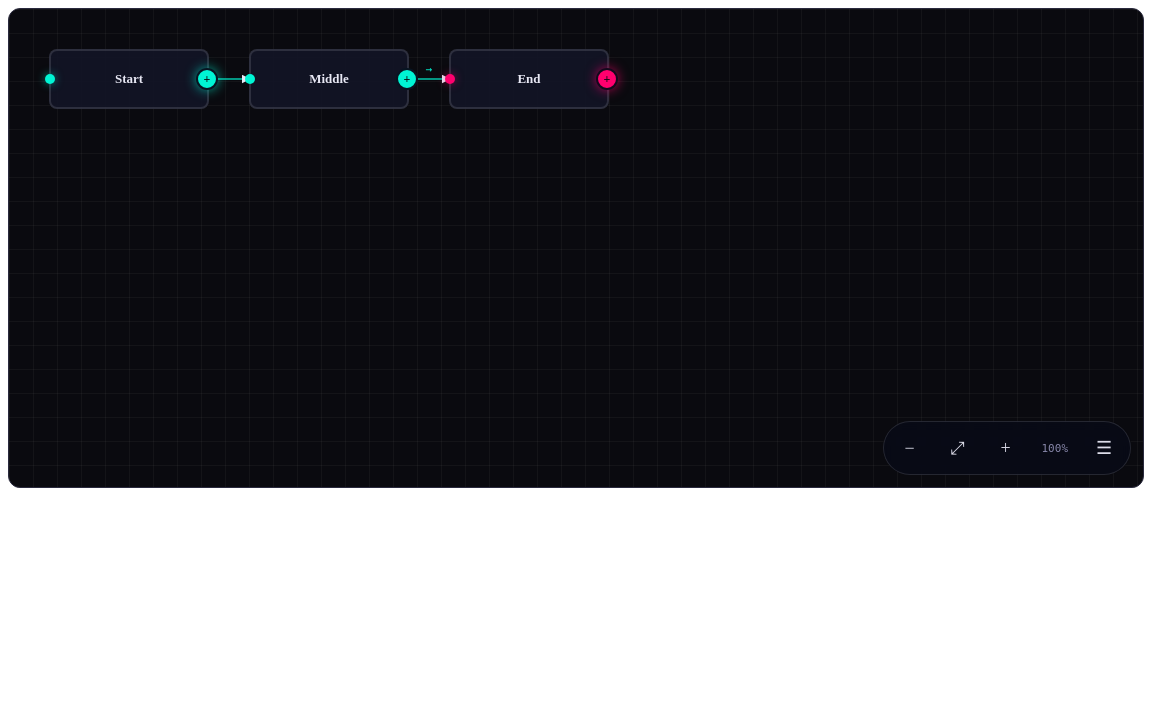
Test: TkxFlowChart zoom controls › zoom-out changes the readout
The image size is (1152, 720).
Click the button with test id "flow-zoom-out". click: (910, 448)
box: x1=888 y1=426 x2=932 y2=470
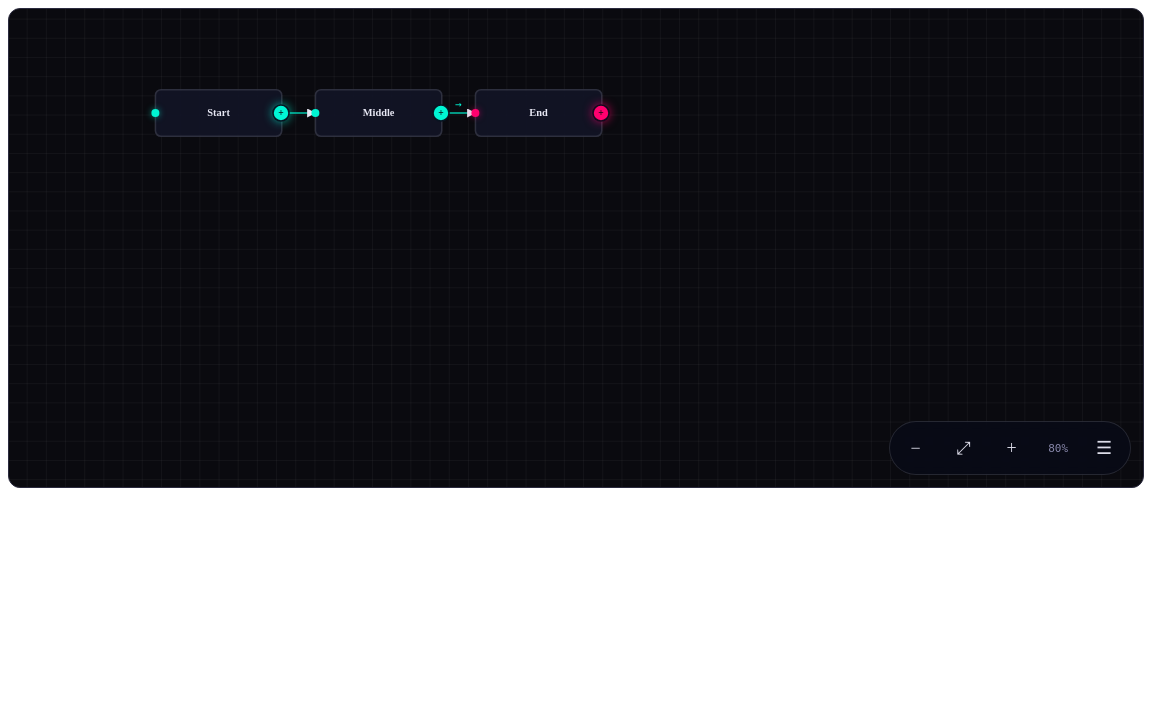
Expected: the text with test id "flow-zoom-readout" reads "80%", x1=1048 y1=442 x2=1068 y2=454
